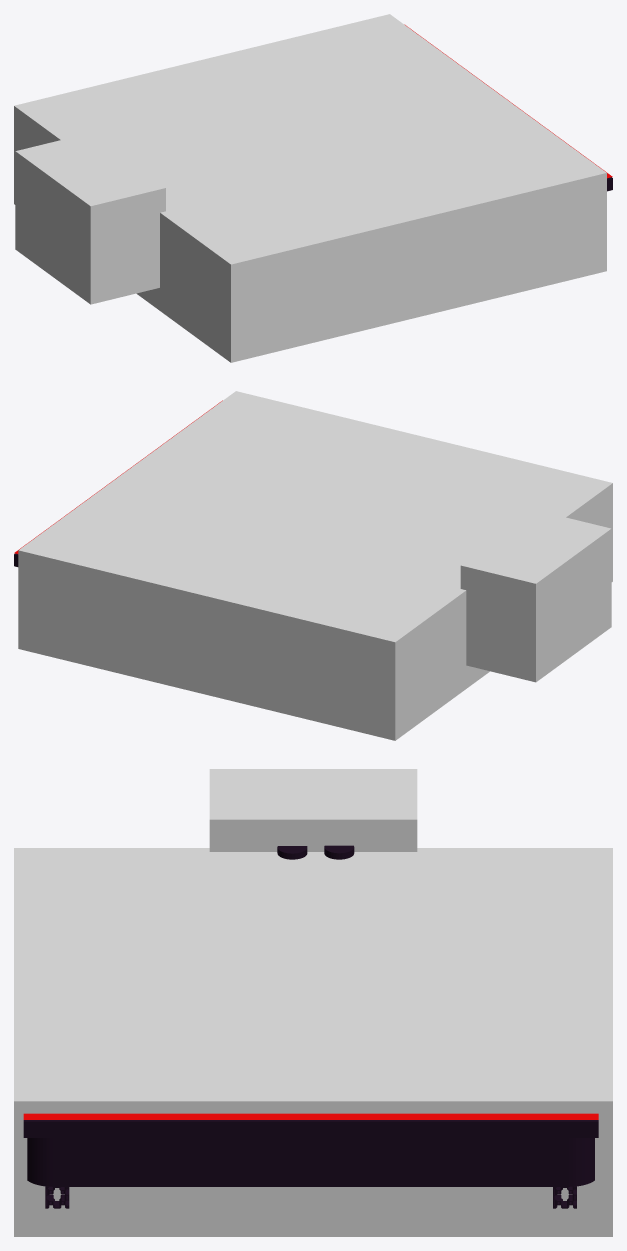
The model's file is tool.glb.
The picture shows the model from 3 angles, top to bottom: view 1: azimuth 30°, elevation 25°; view 2: azimuth 150°, elevation 25°; view 3: azimuth 270°, elevation 25°; orthographic projection. The views are drawn at different scales.
Visible parts, largest first — view 1: Cube, Cube.002; view 2: Cube, Cube.002; view 3: Cube, Cube.003, Cube.002, Cube.004, Cube.001.
Boxes of the visible parts, x1,y1,x2,y2 form: Cube: (14,14,606,362); Cube.002: (15,133,165,304); Cube: (18,391,612,740); Cube.002: (460,510,611,682); Cube: (14,848,612,1236); Cube.003: (27,1138,594,1186); Cube.002: (209,769,417,851); Cube.004: (23,1120,598,1137); Cube.001: (23,1113,598,1119).
Bounding box in the file's own units: 1.21 × 0.3094 × 1.
